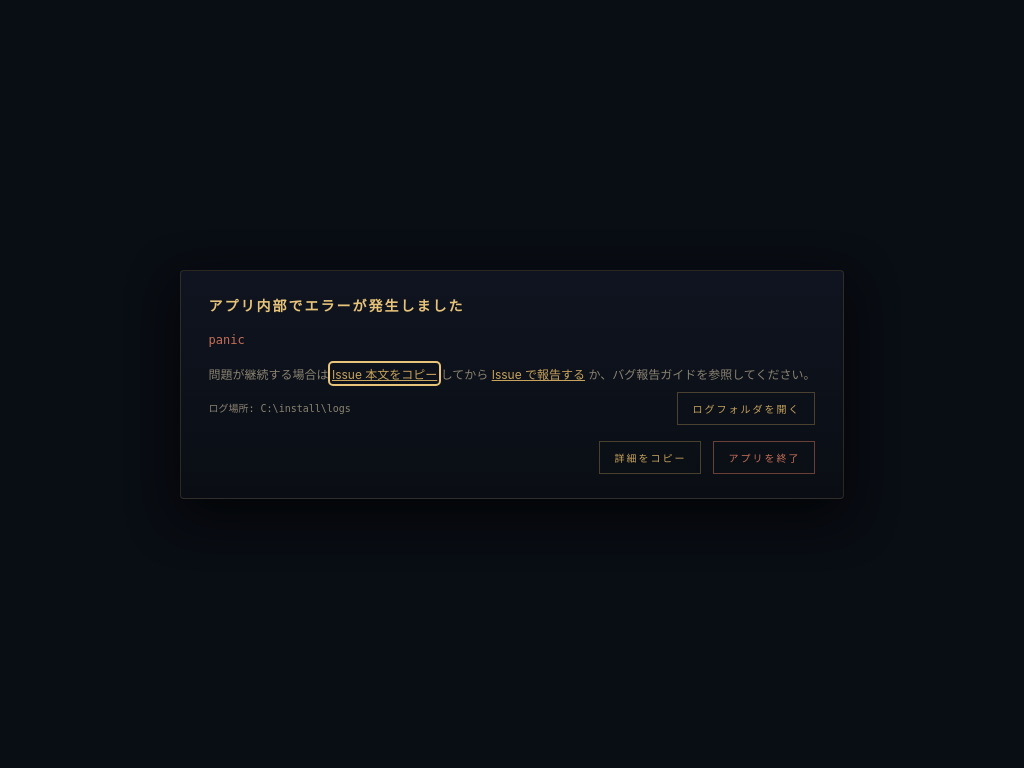
Test: ErrorModal Issue 本文をコピー button (#669, Plan B clipboard) › shows "Issue 本文をコピーしました" ack after a successful copy
The image size is (1024, 768).
Click the button "Issue 本文をコピー" at (385, 373), box 332,364 -> 437,382
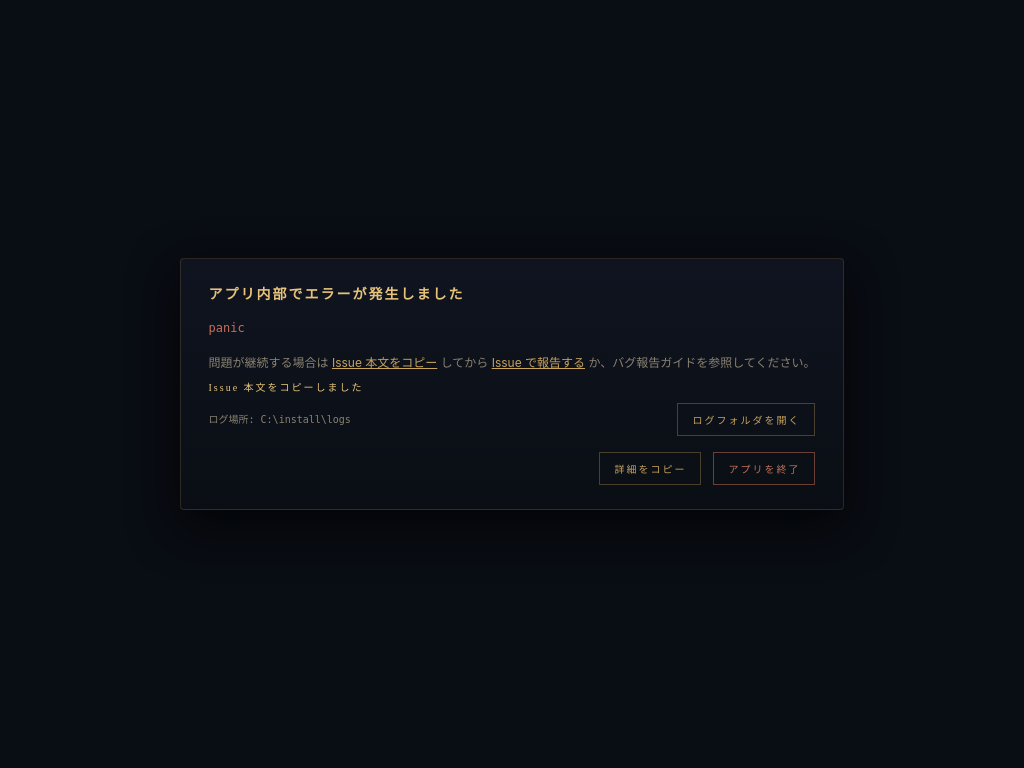
expect the text "Issue 本文をコピーしました" is shown: met, box 208,382 -> 364,393
